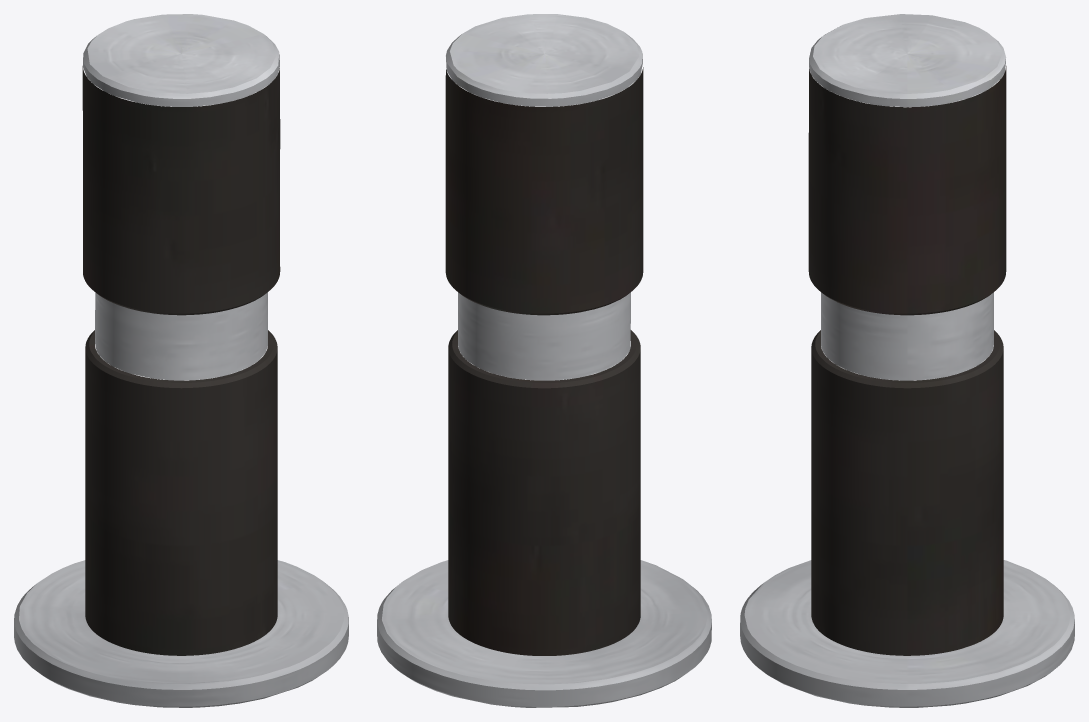
The model's file is ferro-orbis_rook_black.glb.
3 views of the same model, side by side, from view 1: azimuth 30°, elevation 25°; view 2: azimuth 150°, elevation 25°; view 3: azimuth 270°, elevation 25° (orthographic).
Visible parts, largest first — view 1: ferro-orbis_rook_black; view 2: ferro-orbis_rook_black; view 3: ferro-orbis_rook_black.
Part boxes in pixels (box(x1,y1,x2,y2)): ferro-orbis_rook_black: box(14, 14, 348, 707); ferro-orbis_rook_black: box(377, 14, 711, 707); ferro-orbis_rook_black: box(740, 14, 1074, 707).
Size of the model in its own units: 0.0311 by 0.06 by 0.0312.
3 materials, 3 textured.
